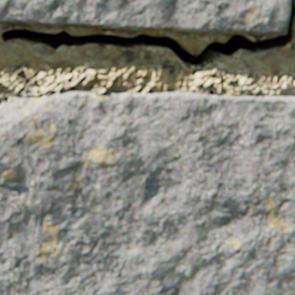brick: (0, 91, 294, 294), (0, 0, 289, 34)
crack: (1, 0, 293, 69)
